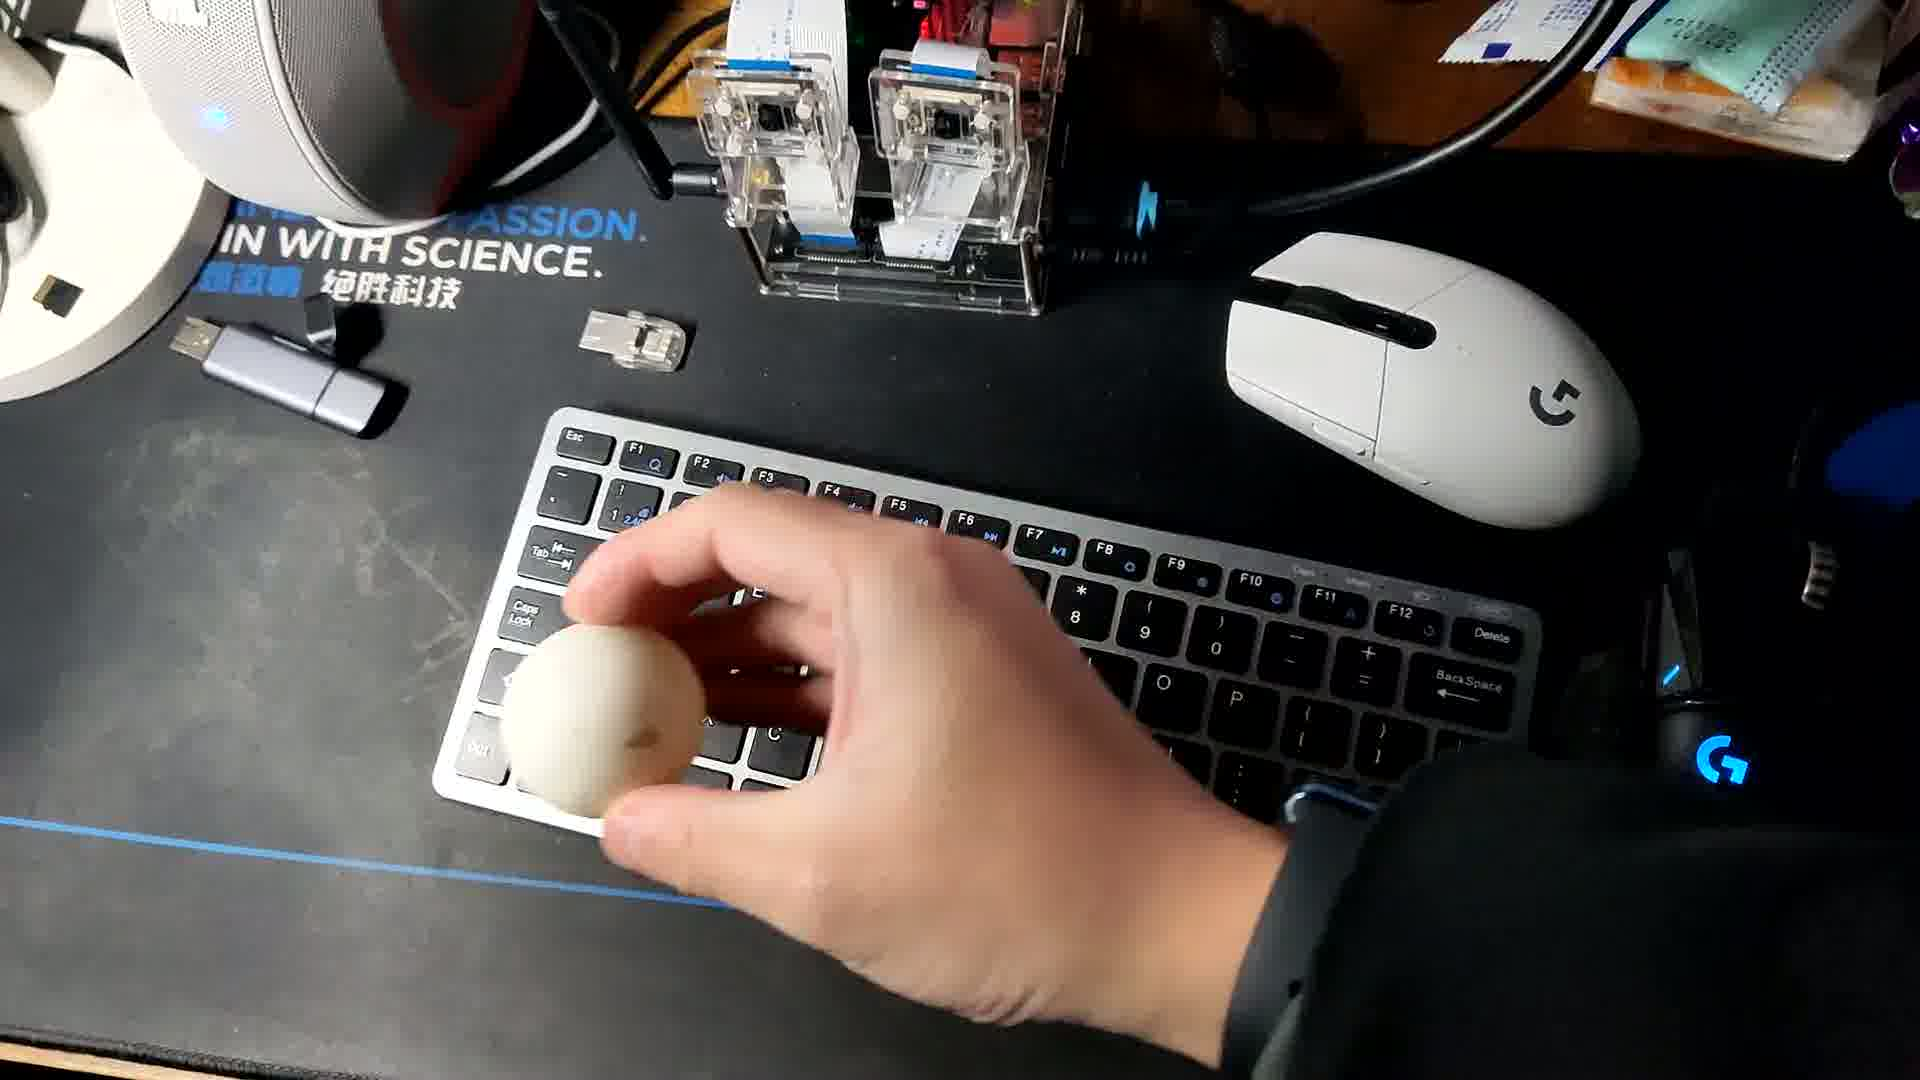Ball: (500, 622, 709, 823)
